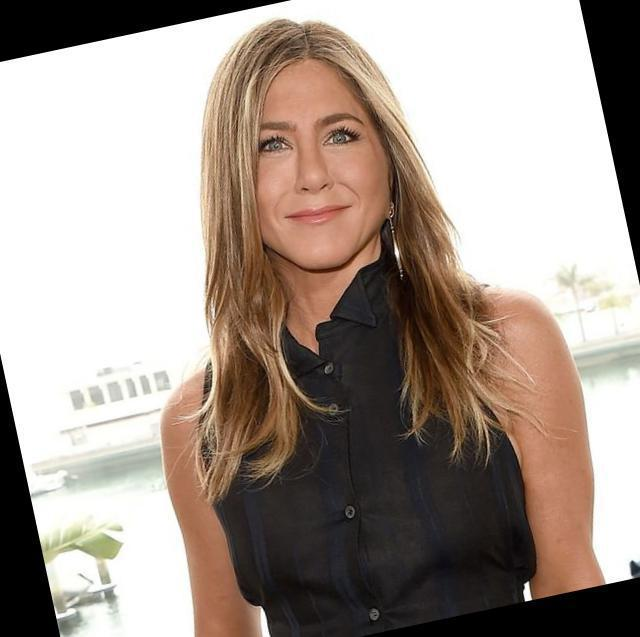Sober: (238, 69, 394, 260)
